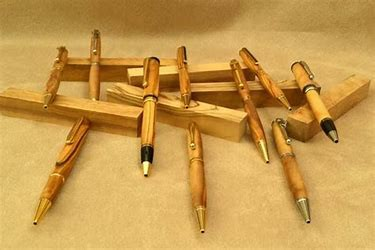pen: (26, 127, 93, 230), (270, 118, 310, 224), (288, 58, 338, 141), (229, 58, 268, 162), (240, 44, 293, 109), (183, 120, 212, 236), (140, 54, 159, 181), (41, 35, 69, 113), (85, 27, 108, 105), (174, 41, 194, 111)
